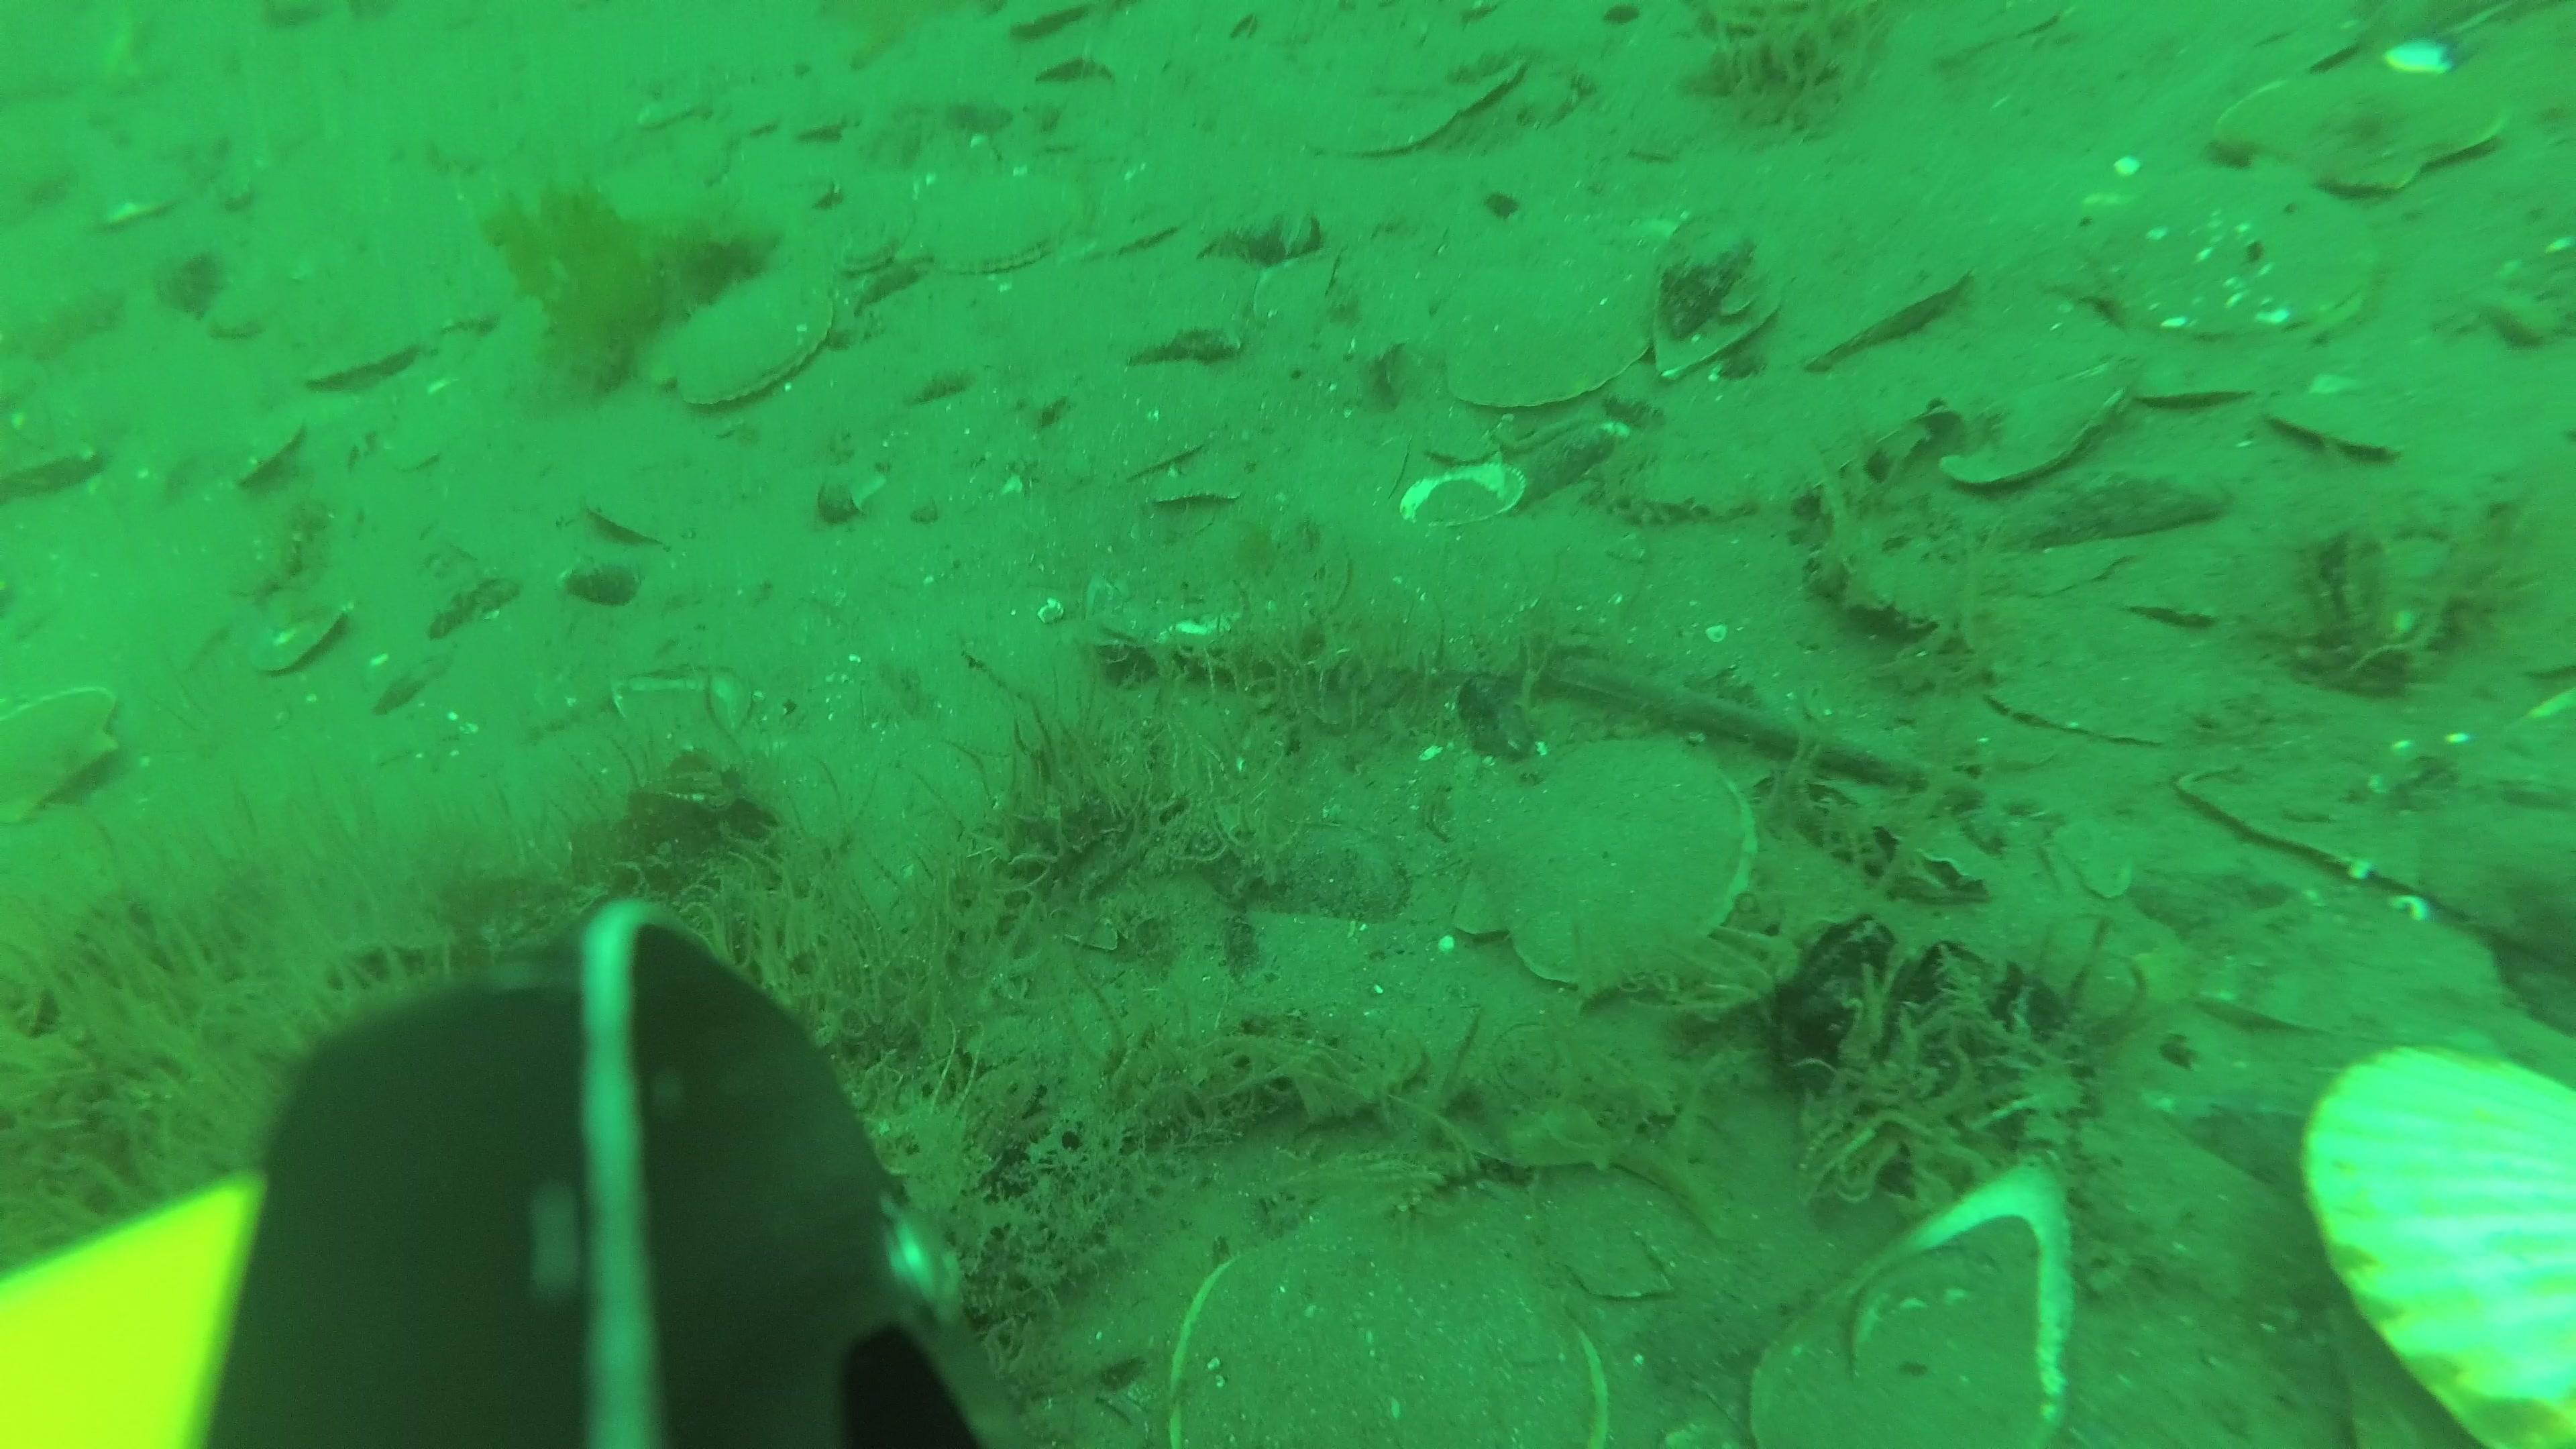scallop: (1445, 743, 1766, 1000), (2095, 165, 2373, 356), (2215, 51, 2518, 196), (1438, 242, 1667, 426), (1939, 350, 2148, 487), (646, 274, 839, 419), (916, 170, 1093, 283), (1801, 264, 1982, 373), (5, 686, 140, 830), (2268, 377, 2415, 469), (301, 313, 437, 398), (2134, 352, 2266, 412), (826, 223, 899, 283)
